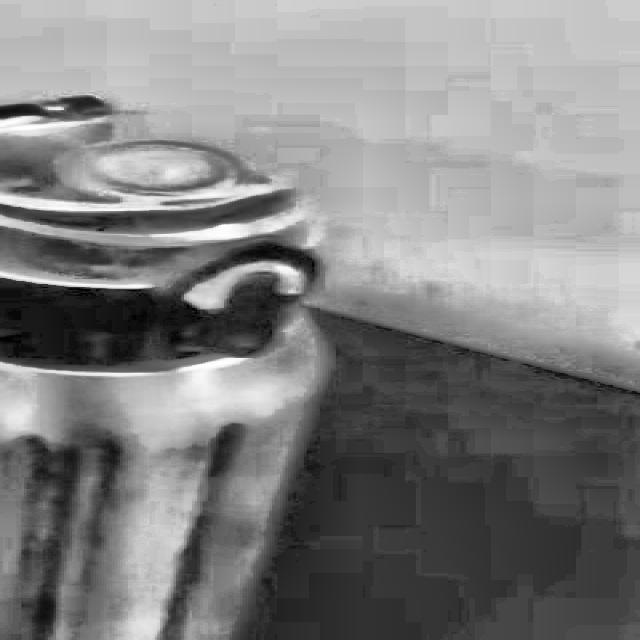bottle: (0, 98, 331, 640)
